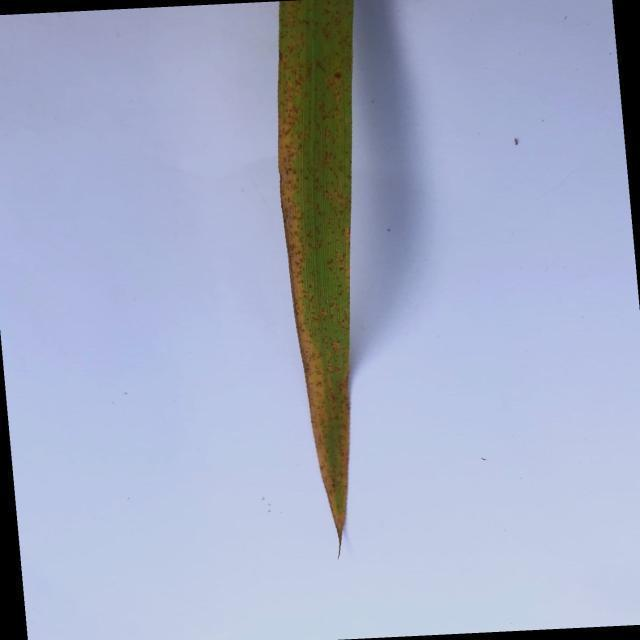Rice Tungro: (273, 0, 355, 552)
